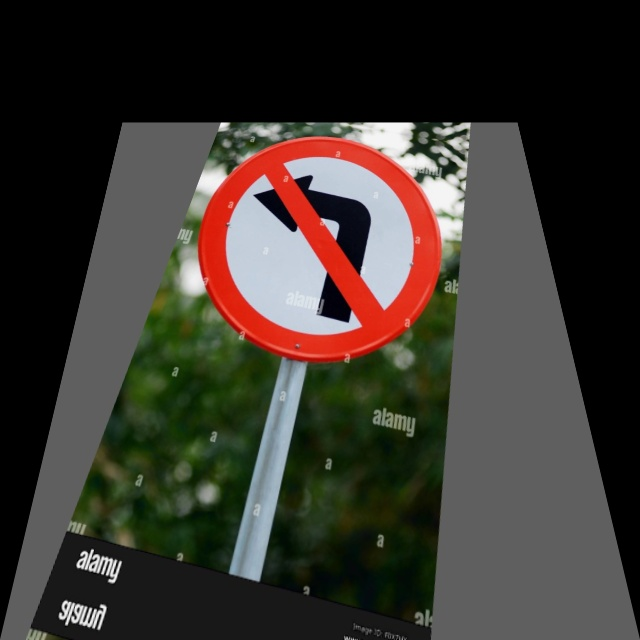Left_Turn_Prohibited: (152, 122, 486, 385)
